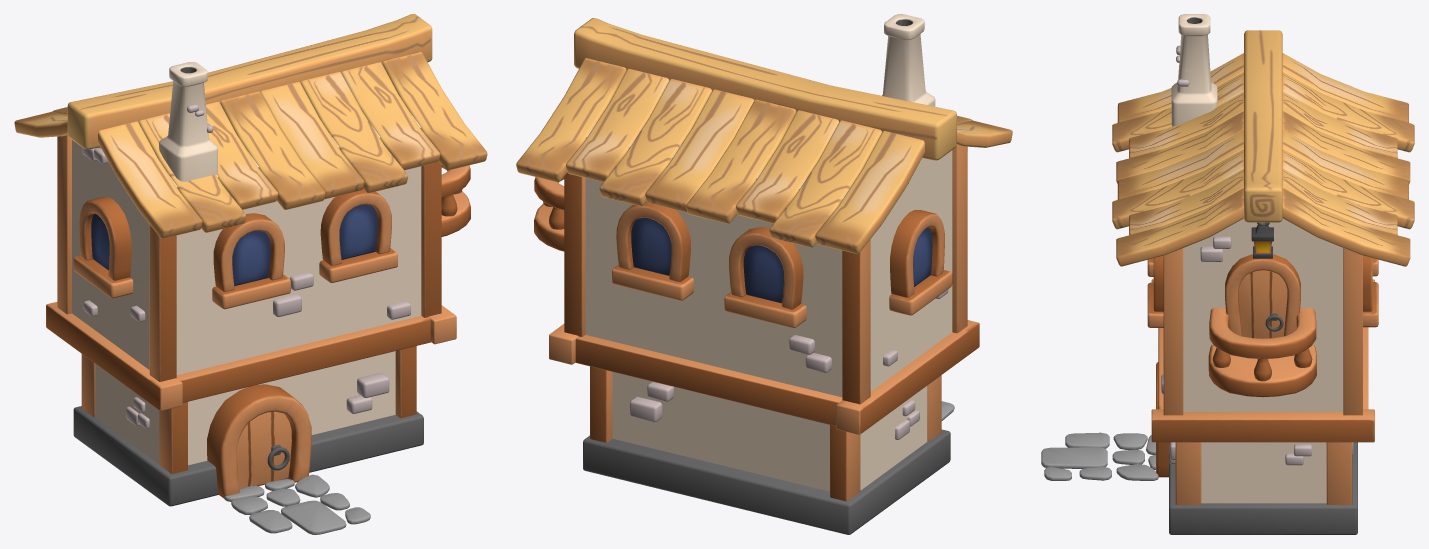
The model's file is house5.fbx.
3 renders of one model, left to right at view 1: azimuth 30°, elevation 25°; view 2: azimuth 150°, elevation 25°; view 3: azimuth 270°, elevation 25°, orthographic. The views are drawn at different scales.
Parts seen in each view (by area): view 1: house5.001; view 2: house5.001; view 3: house5.001.
Part boxes in pixels (x1,y1,x2,y2): house5.001: [14, 14, 487, 534]; house5.001: [516, 14, 1012, 534]; house5.001: [1041, 14, 1414, 534].
Size of the model in its own units: 888 by 926 by 764.
